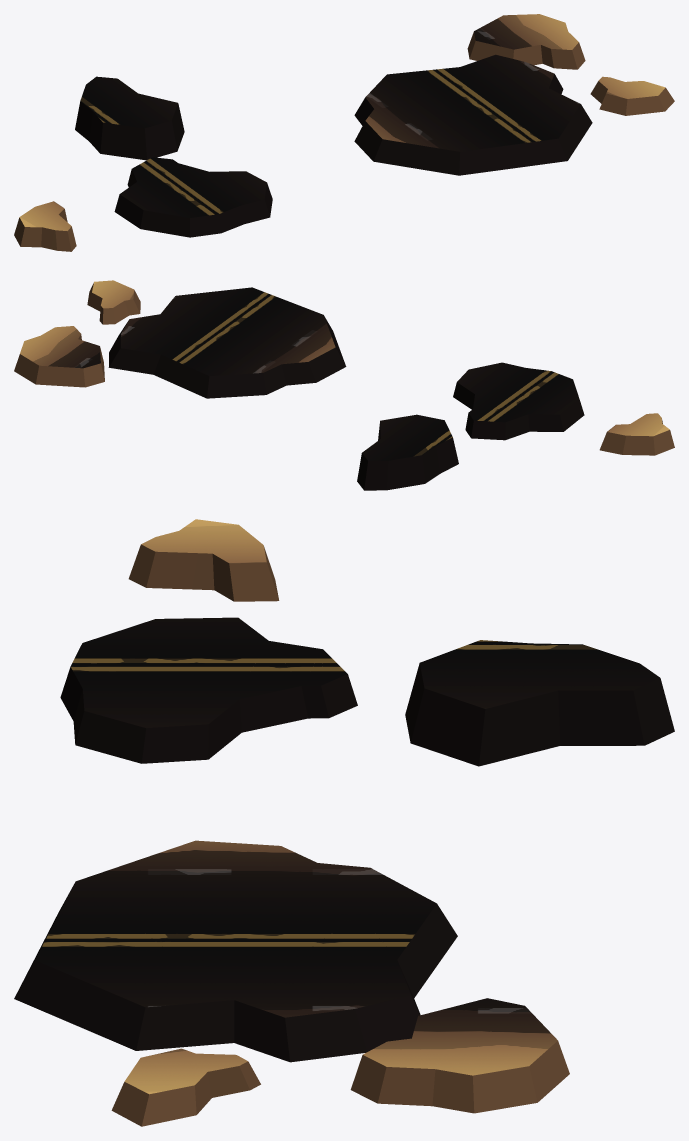
Rendered from SM_Bld_Bridge_Debris_02.fbx.
The picture shows the model from 3 angles, top to bottom: view 1: azimuth 30°, elevation 25°; view 2: azimuth 150°, elevation 25°; view 3: azimuth 270°, elevation 25°; orthographic projection. The views are drawn at different scales.
Visible parts, largest first — view 1: SM_Bld_Bridge_Debris_02; view 2: SM_Bld_Bridge_Debris_02; view 3: SM_Bld_Bridge_Debris_02.
Part boxes in pixels (x1,y1,x2,y2): SM_Bld_Bridge_Debris_02: (14,14,674,251); SM_Bld_Bridge_Debris_02: (14,280,674,490); SM_Bld_Bridge_Debris_02: (14,519,674,1126).
Size of the model in its own units: 2203 by 94.85 by 1065.
1 material, 1 textured.
